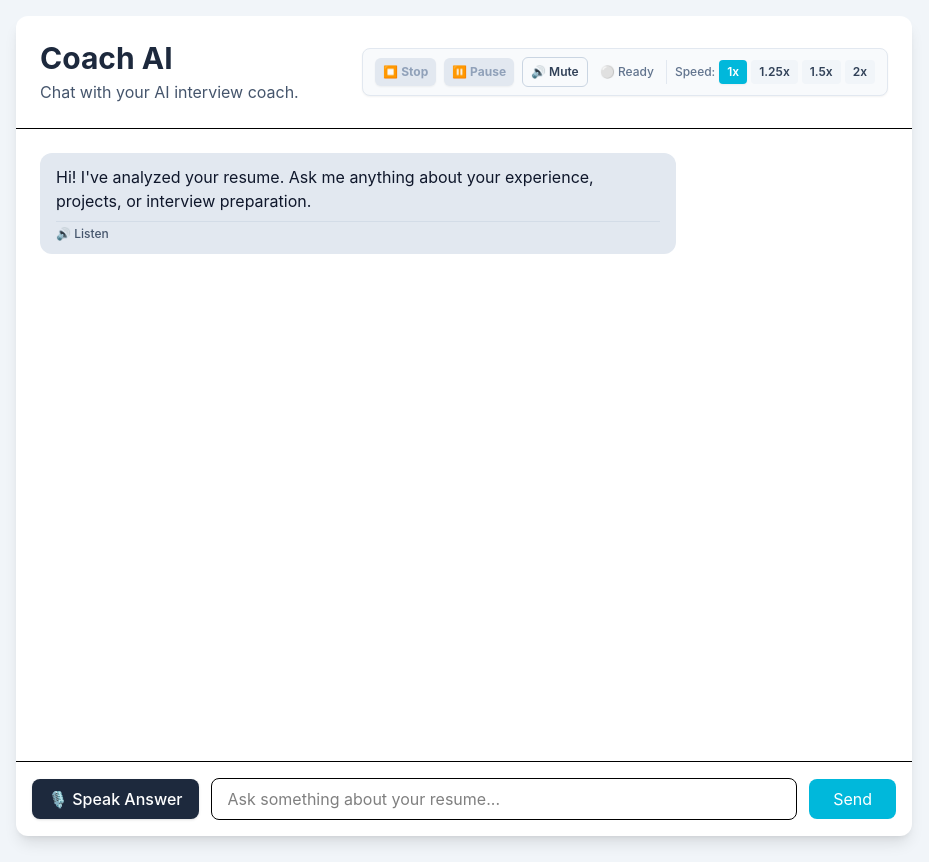
Scenario: Chat Page Component › sends question to /chat and appends answer to message history
Type "How many years of React do I have?" into the field with placeholder "Ask something about your resume..." at (504, 799), box [210, 778, 797, 820]
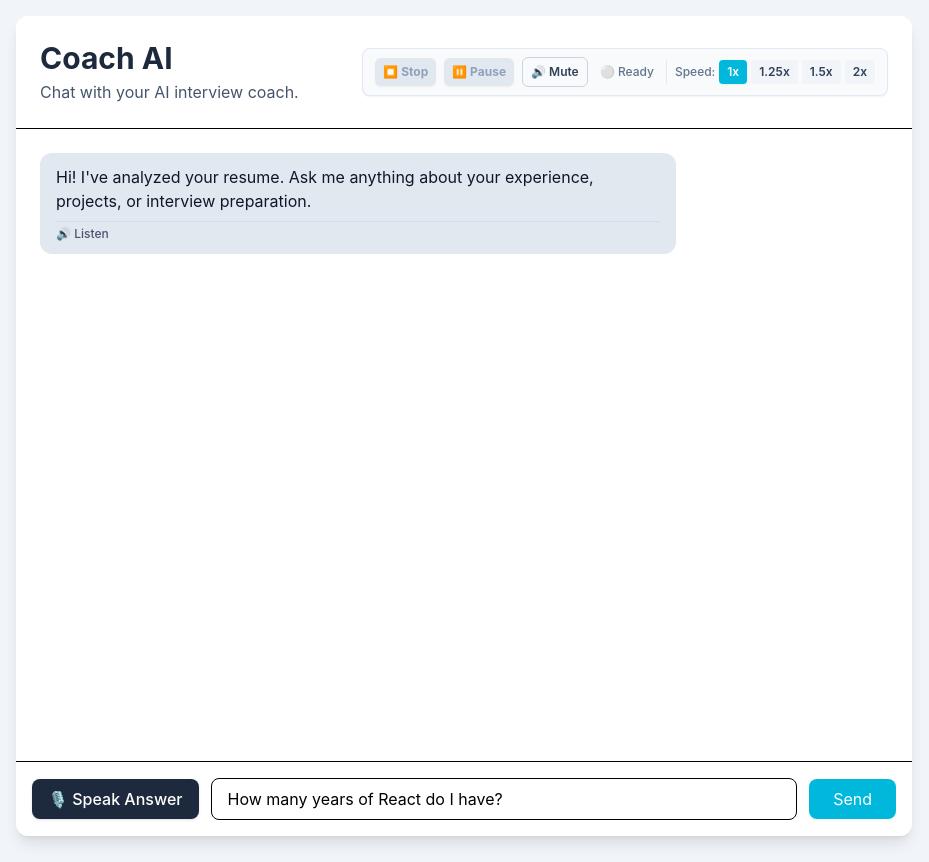
Click the button "Send" at (853, 799), box [809, 779, 896, 819]
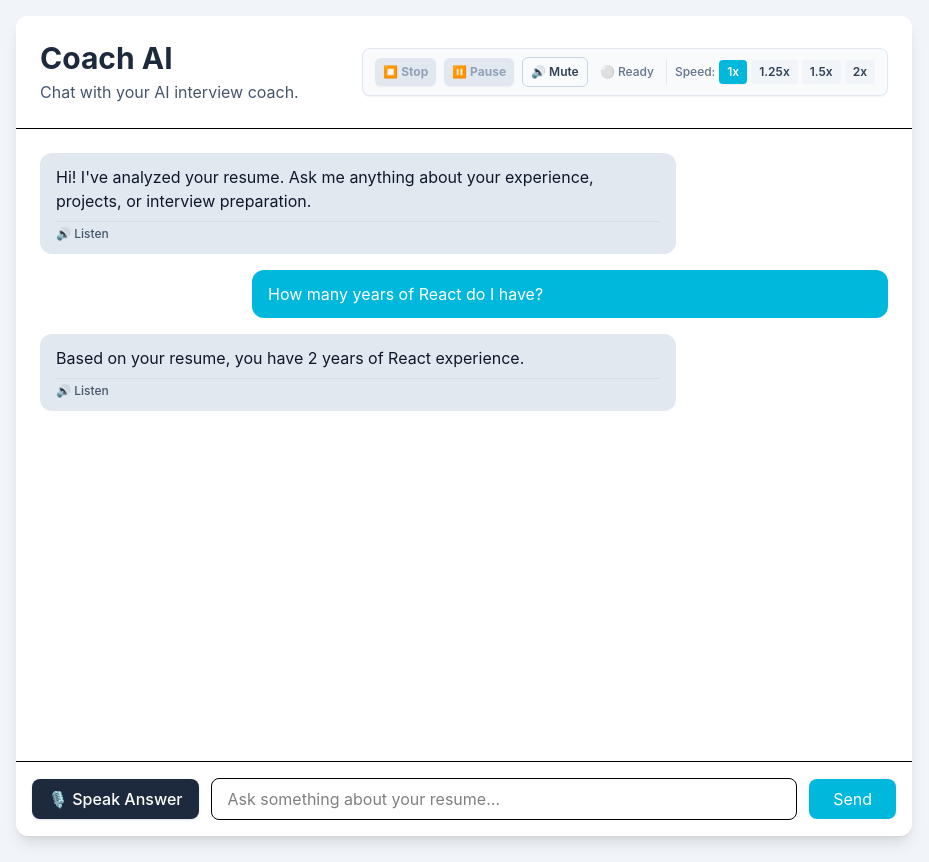
Expected: the text "How many years of React do I have?" is shown, [268, 284, 543, 304]
Expected: the text "Based on your resume, you have 2 years of React experience." is shown, [56, 348, 524, 368]
